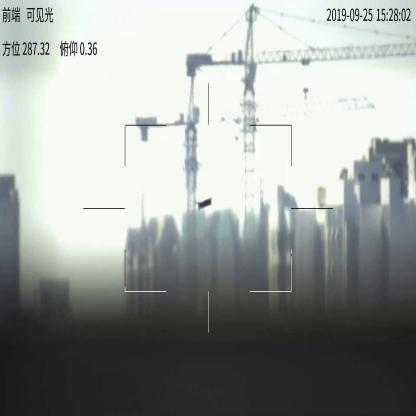uav: (197, 196, 213, 209)
